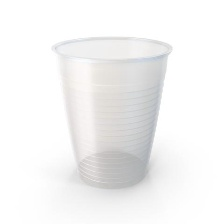glass: (42, 27, 188, 198)
